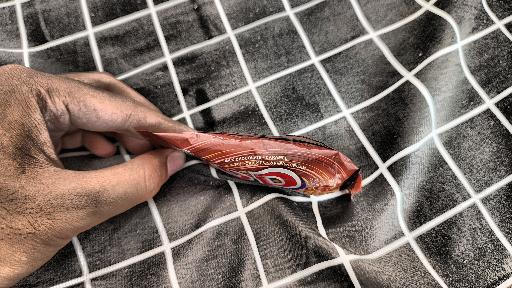top: (98, 122, 376, 202)
